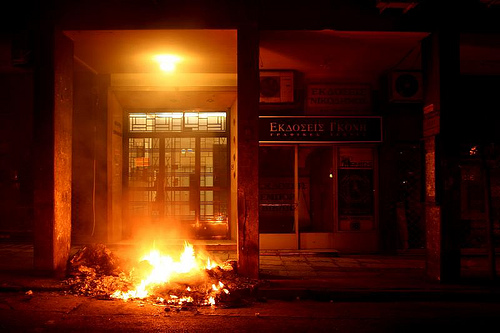fire: (108, 244, 239, 309)
